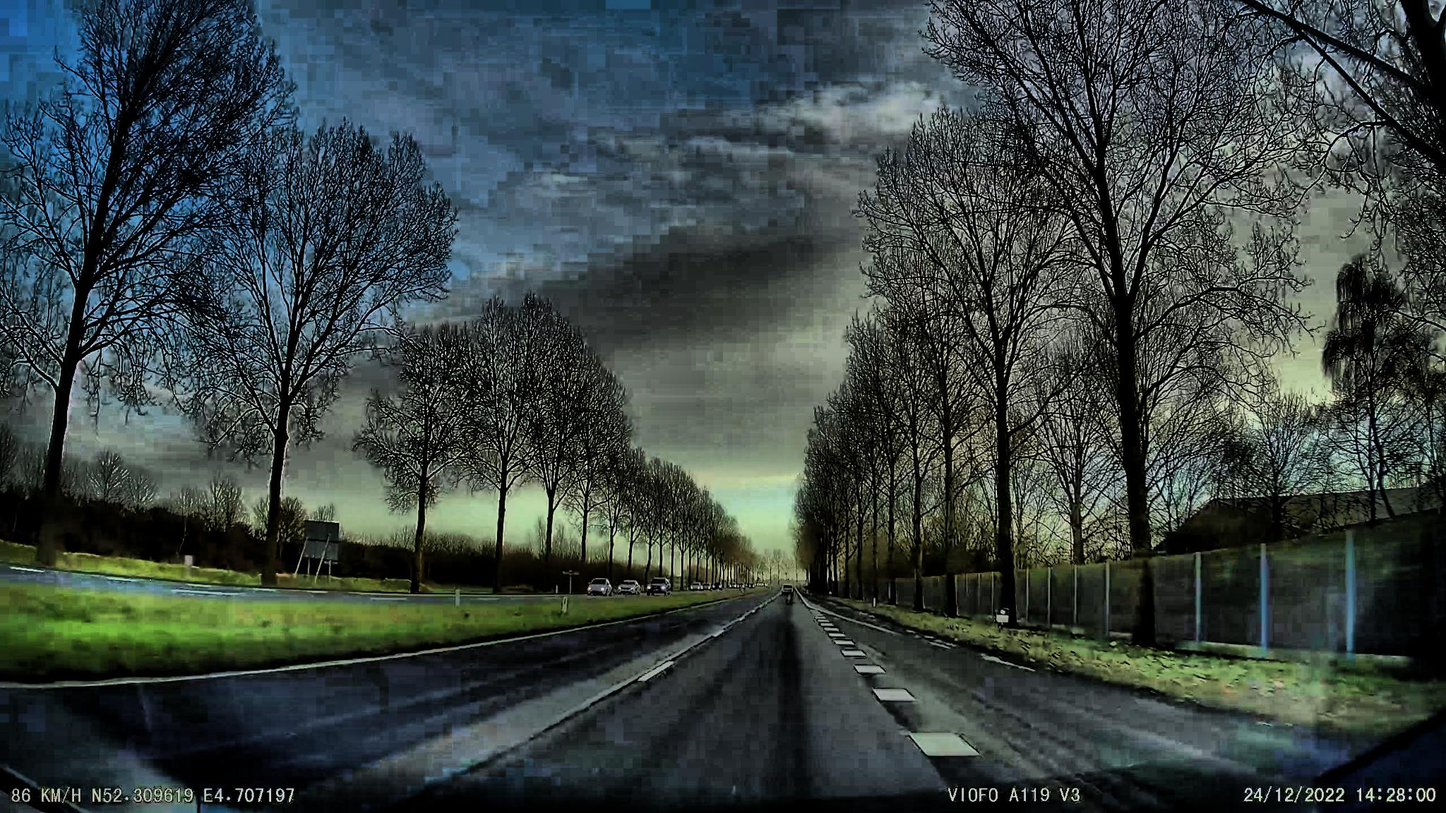Roads: (0, 596, 1446, 813)
